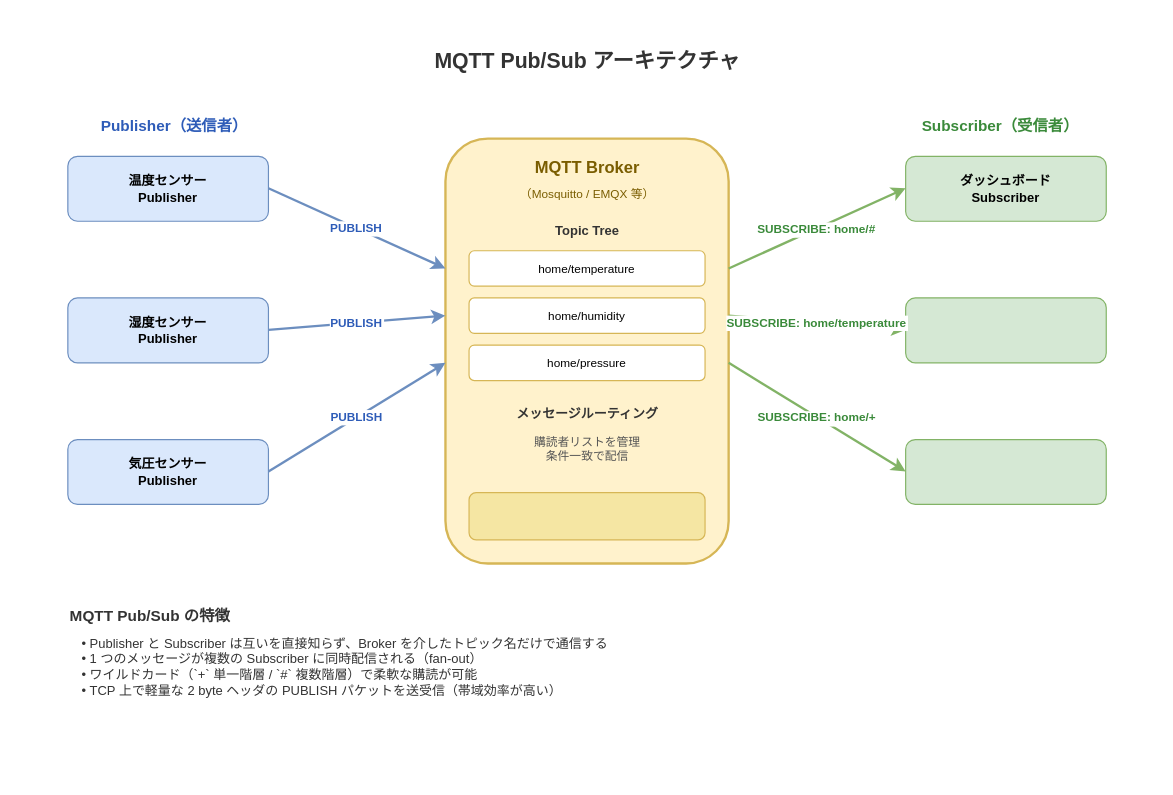
Image size: 1173x795. Some labels were removed from this diagram. The shapes that lost their labels are listed below. From the top down, each one's box as (x1, y1, x2, y2) in pixels, then its label:
(904, 297, 1106, 363): アラート通知 Subscriber
(904, 438, 1106, 504): 時系列DB保存 Subscriber
(468, 491, 705, 540): セッション管理 / 認証 / QoS
